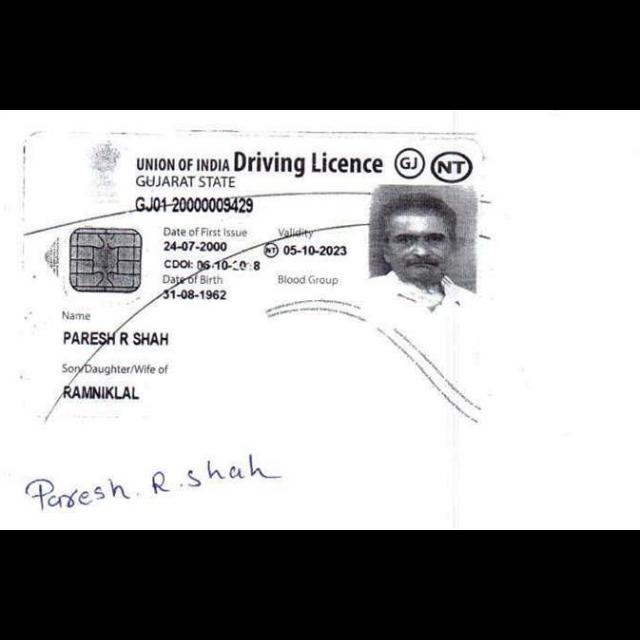driving_licence: (12, 124, 494, 440)
